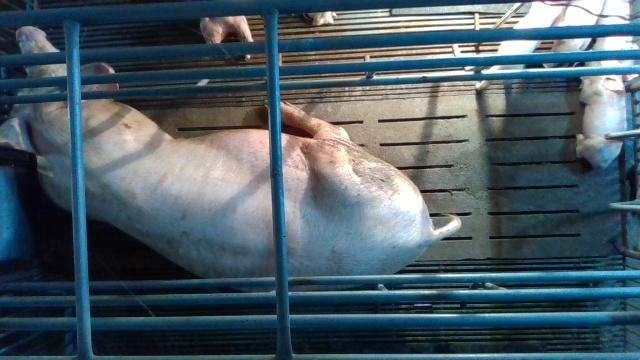piglet: (477, 0, 570, 89), (575, 52, 640, 169), (543, 0, 605, 69), (584, 0, 640, 66), (199, 15, 254, 58)
sow-sit: (0, 24, 461, 292)
